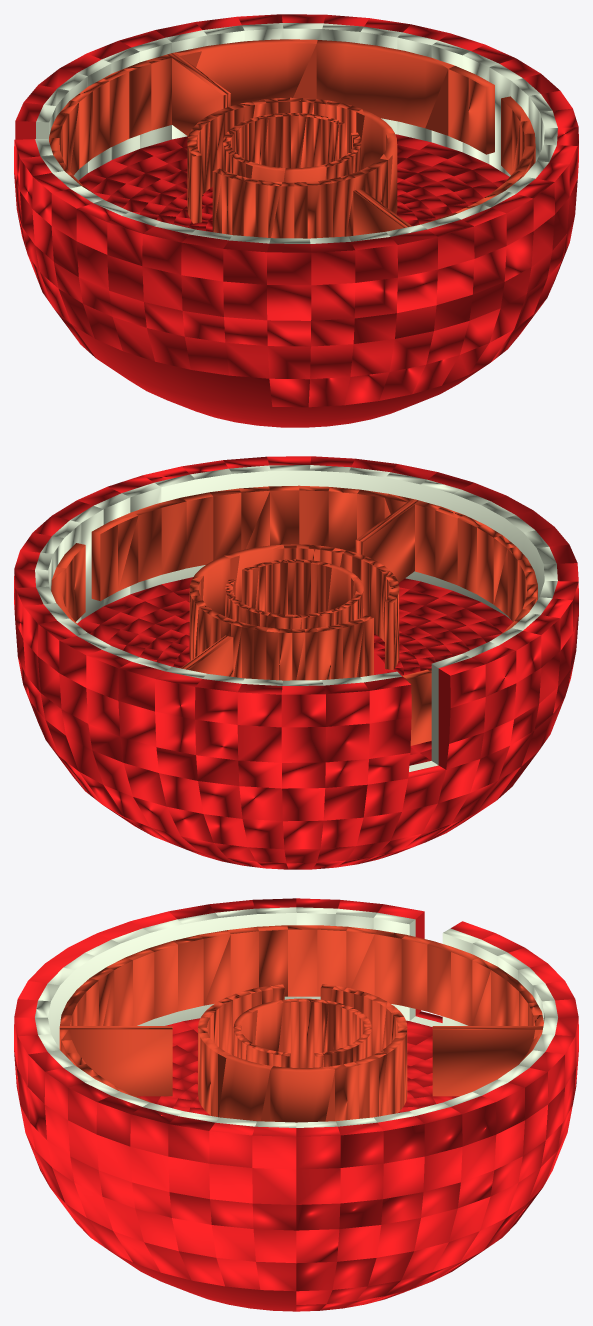
File: berry.fbx
3 views of the same model, one above another, from view 1: azimuth 30°, elevation 25°; view 2: azimuth 150°, elevation 25°; view 3: azimuth 270°, elevation 25° (orthographic).
Parts seen in each view (by area): view 1: Object8246, Object6980, Object8297, Object6965, Object8298, Object7017; view 2: Object8246, Object6980, Object8297, Object6965, Object8298, Object7017; view 3: Object8246, Object6980, Object6965, Object8297, Object7017, Object8298.
Boxes of the visible parts, x1,y1,x2,y2 form: Object8246: (14, 14, 578, 427); Object6980: (49, 39, 535, 235); Object8297: (35, 23, 557, 243); Object6965: (187, 97, 397, 238); Object8298: (78, 134, 509, 231); Object7017: (223, 113, 361, 182); Object8246: (14, 456, 578, 869); Object6980: (51, 485, 537, 745); Object8297: (35, 465, 557, 771); Object6965: (189, 544, 399, 680); Object8298: (77, 577, 512, 765); Object7017: (225, 559, 363, 628); Object8246: (14, 898, 578, 1311); Object6980: (59, 925, 543, 1102); Object6965: (198, 984, 407, 1122); Object8297: (35, 907, 557, 1127); Object7017: (233, 998, 371, 1067); Object8298: (137, 1018, 459, 1115).
Bounding box in the file's own units: 504 × 256 × 504.
